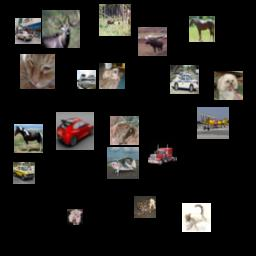airplane: (107, 147, 139, 179), (197, 107, 229, 139)
automobile: (56, 112, 94, 150), (170, 65, 199, 94), (15, 18, 41, 44), (13, 162, 35, 184)
cat: (20, 54, 55, 89), (182, 203, 211, 232)
deer: (42, 10, 80, 48), (99, 4, 131, 36), (138, 27, 167, 56)
dog: (214, 71, 243, 100), (99, 63, 125, 89), (67, 209, 83, 225)
frog: (110, 116, 139, 145), (134, 196, 156, 218)
ship: (77, 70, 96, 89)
truck: (148, 138, 177, 167)
